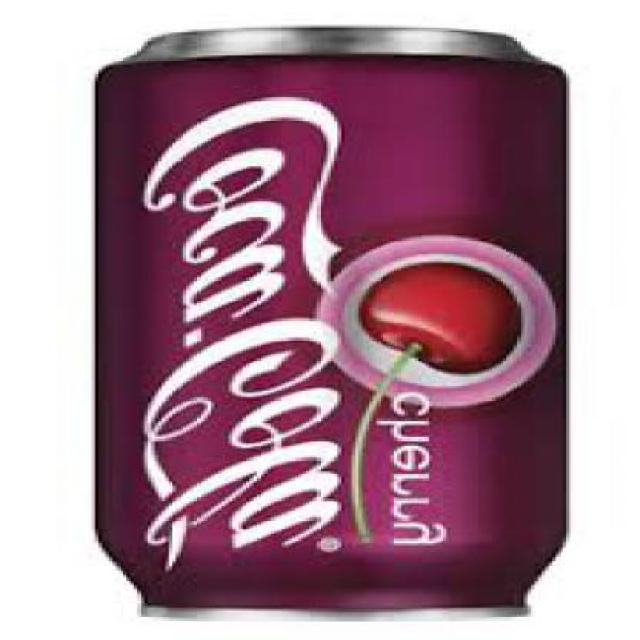metal: (88, 31, 566, 620)
